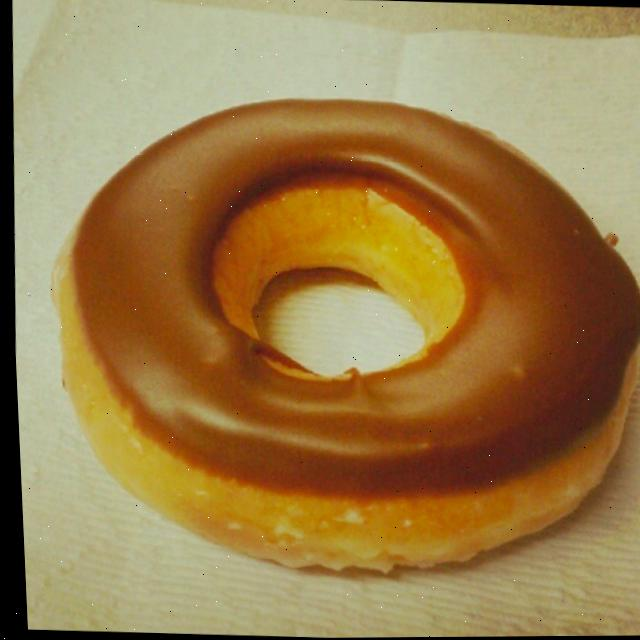炸货点心: (27, 41, 640, 608)
